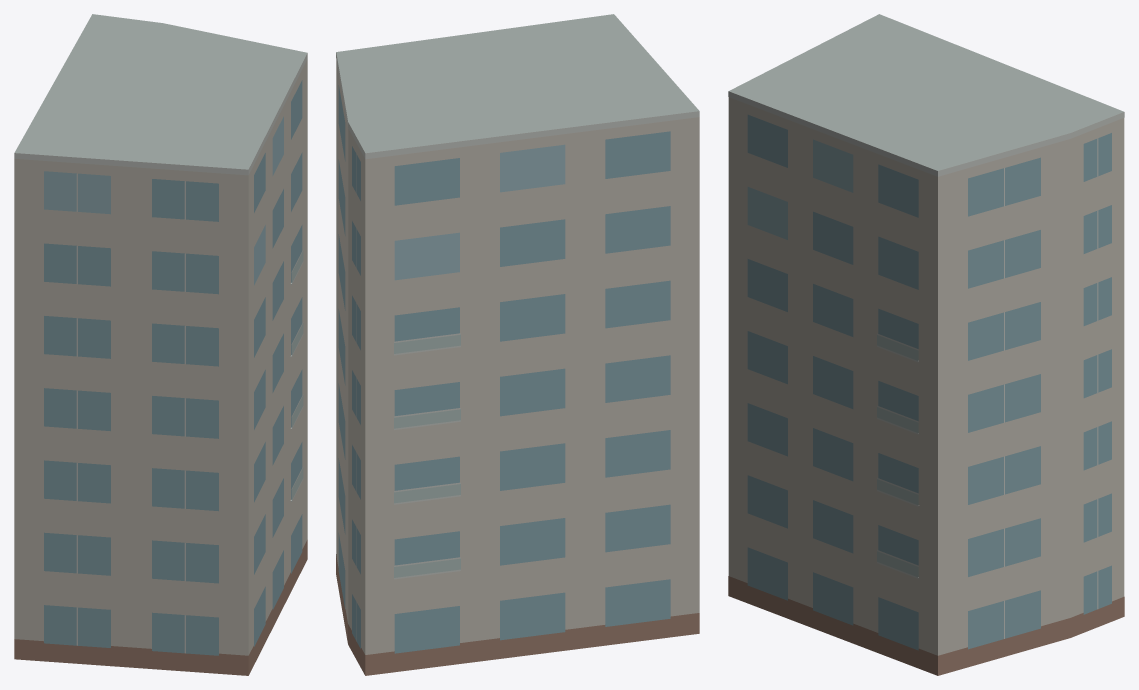
The model's file is survey-upis-33009978.glb.
3 renders of one model, left to right at view 1: azimuth 30°, elevation 25°; view 2: azimuth 150°, elevation 25°; view 3: azimuth 270°, elevation 25°, orthographic. The views are drawn at different scales.
Visible parts, largest first — view 1: survey-upis-33009978.tmp; view 2: survey-upis-33009978.tmp; view 3: survey-upis-33009978.tmp.
Boxes of the visible parts, x1,y1,x2,y2 form: survey-upis-33009978.tmp: (14, 14, 307, 675); survey-upis-33009978.tmp: (336, 14, 699, 675); survey-upis-33009978.tmp: (728, 14, 1124, 675).
Size of the model in its own units: 14.29 by 21.4 by 15.22.
